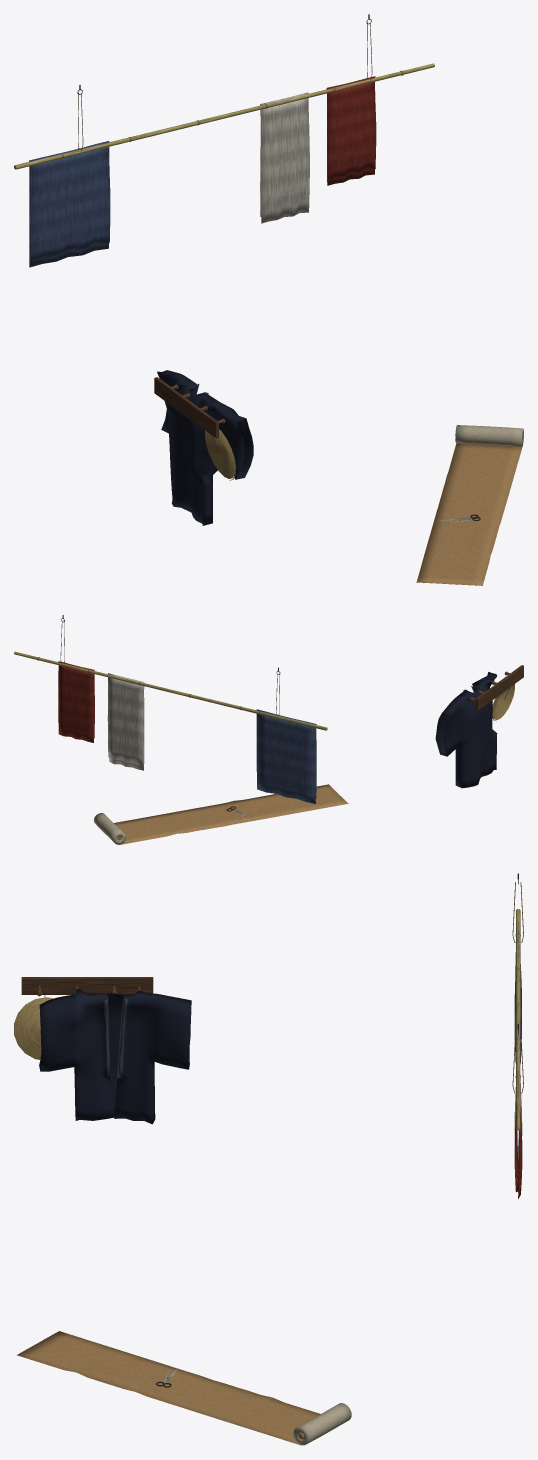
Rendered from upper-cloth-v2-sewn-rail.glb.
3 renders of one model, top to bottom at view 1: azimuth 30°, elevation 25°; view 2: azimuth 150°, elevation 25°; view 3: azimuth 270°, elevation 25°, orthographic. The views are drawn at different scales.
Parts seen in each view (by area): view 1: Bolt_unrolled, Laundry_fold_0, Haori_connected, Laundry_fold_1, Laundry_fold_2, UD_DryingPole_Cloths_v2, UD_CoatRail_Haori_v2, Bolt_cotton_roll; view 2: Bolt_unrolled, Laundry_fold_0, Haori_connected, Laundry_fold_1, Laundry_fold_2, UD_DryingPole_Cloths_v2, UD_CoatRail_Haori_v2, Bolt_cotton_roll; view 3: Haori_connected, Bolt_unrolled, UD_CoatRail_Haori_v2, UD_DryingPole_Cloths_v2, Bolt_cotton_roll.
Boxes of the visible parts, x1,y1,x2,y2 form: Bolt_unrolled: [416, 443, 522, 585]; Laundry_fold_0: [29, 141, 110, 267]; Haori_connected: [157, 370, 253, 525]; Laundry_fold_1: [260, 92, 309, 223]; Laundry_fold_2: [326, 76, 376, 185]; UD_DryingPole_Cloths_v2: [14, 14, 434, 169]; UD_CoatRail_Haori_v2: [154, 377, 236, 480]; Bolt_cotton_roll: [455, 425, 523, 446]; Bolt_unrolled: [114, 784, 348, 844]; Laundry_fold_0: [256, 709, 316, 803]; Haori_connected: [435, 672, 497, 788]; Laundry_fold_1: [107, 673, 144, 770]; Laundry_fold_2: [58, 661, 94, 742]; UD_DryingPole_Cloths_v2: [14, 615, 327, 730]; UD_CoatRail_Haori_v2: [470, 665, 523, 721]; Bolt_cotton_roll: [94, 813, 125, 844]; Haori_connected: [39, 988, 191, 1124]; Bolt_unrolled: [17, 1331, 320, 1445]; UD_CoatRail_Haori_v2: [14, 977, 153, 1059]; UD_DryingPole_Cloths_v2: [512, 873, 523, 1130]; Bolt_cotton_roll: [293, 1403, 351, 1445].
Size of the model in its own units: 3.12 by 2.45 by 2.87.
Materials: 10 (9 with a texture image).
